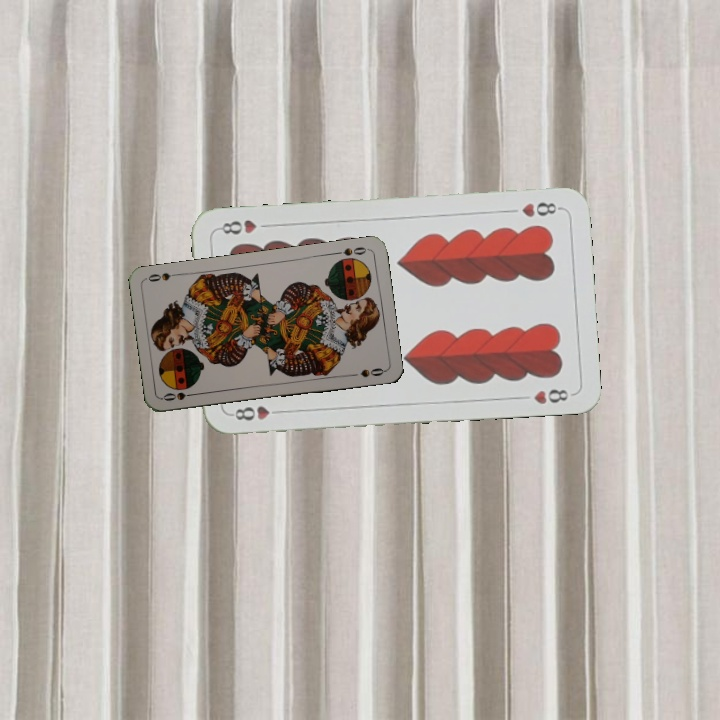H8: (226, 402, 286, 423), (517, 198, 564, 220)
SO: (159, 388, 200, 403), (330, 243, 371, 258)
